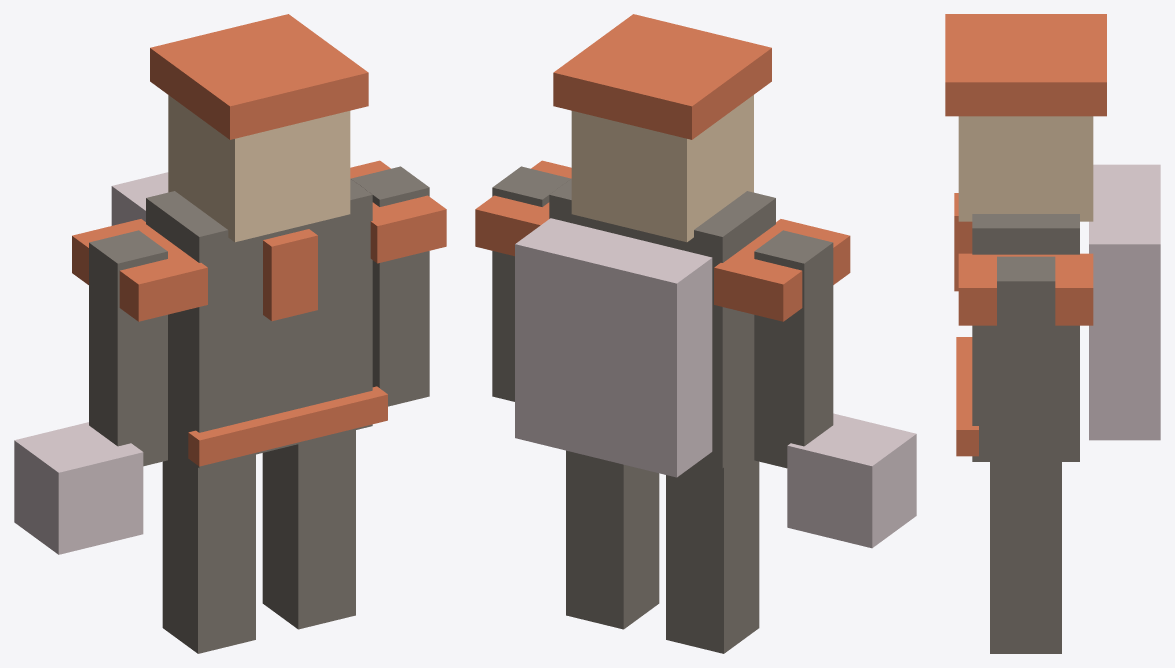
Rendered from 14_selka_chromabell_ranger_near_bitewheel.glb.
The picture shows the model from 3 angles, left to right: view 1: azimuth 30°, elevation 25°; view 2: azimuth 150°, elevation 25°; view 3: azimuth 270°, elevation 25°; orthographic projection.
Parts seen in each view (by area): view 1: Selka Chromabell, Ranger near Bitewheel; view 2: Selka Chromabell, Ranger near Bitewheel; view 3: Selka Chromabell, Ranger near Bitewheel.
Boxes of the visible parts, x1,y1,x2,y2 form: Selka Chromabell, Ranger near Bitewheel: [14, 14, 446, 653]; Selka Chromabell, Ranger near Bitewheel: [475, 14, 916, 653]; Selka Chromabell, Ranger near Bitewheel: [945, 14, 1160, 653].
Size of the model in its own units: 1.09 by 1.53 by 0.5257.
